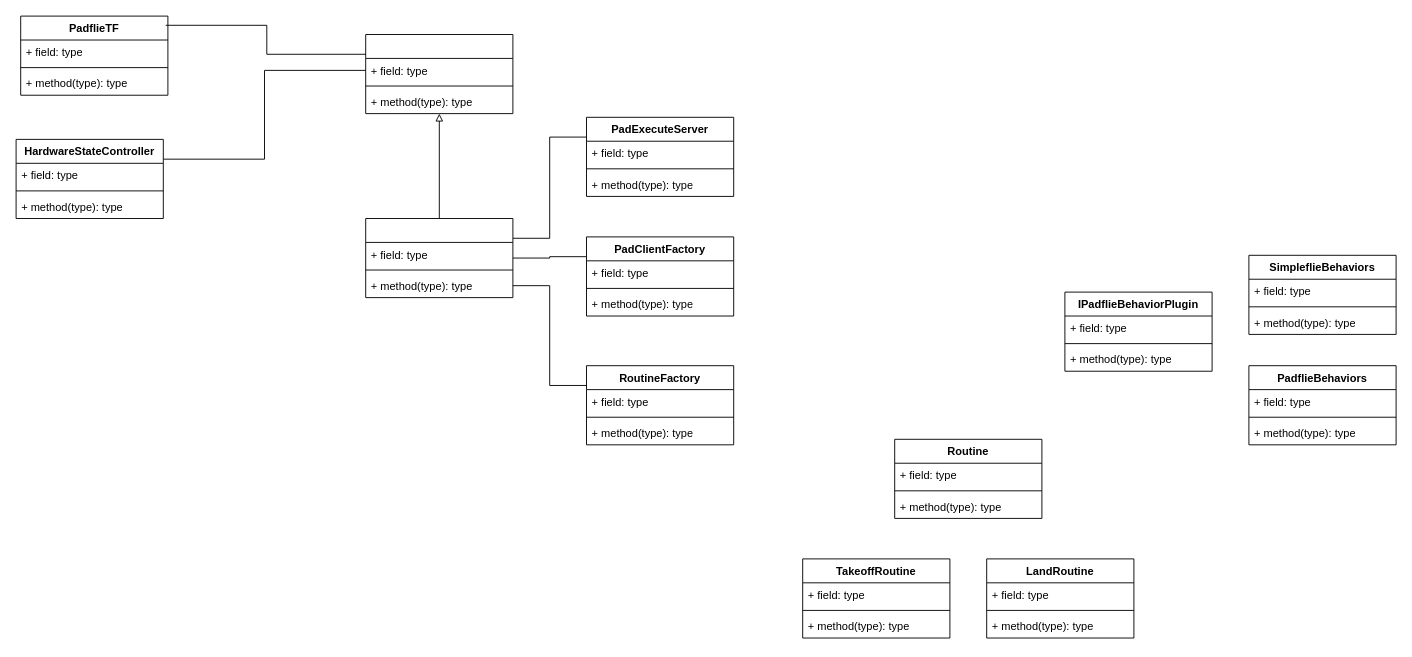
This 1412x657 diagram has some shape labels left out. The shapes that lost their labels are listed below. From the top down, each one's box as (x1, y1, x2, y2) in pixels, then its label:
(365, 34, 513, 114): CommanderBase
(365, 218, 513, 298): Commander
